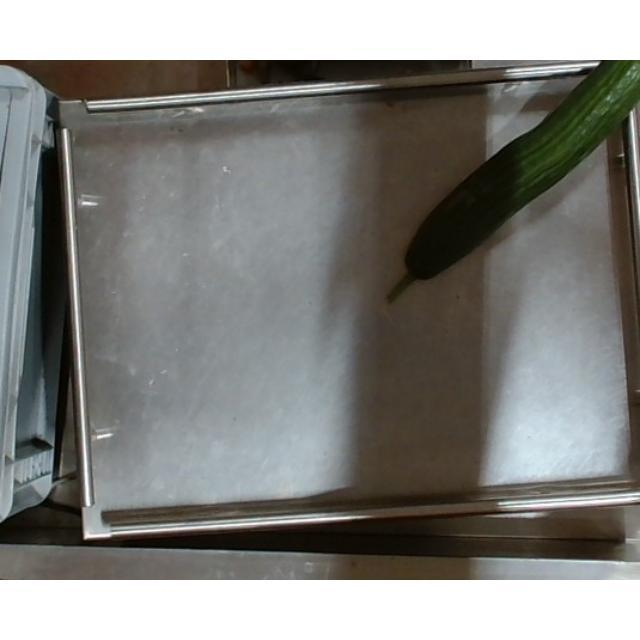cucumber: (397, 63, 633, 297)
